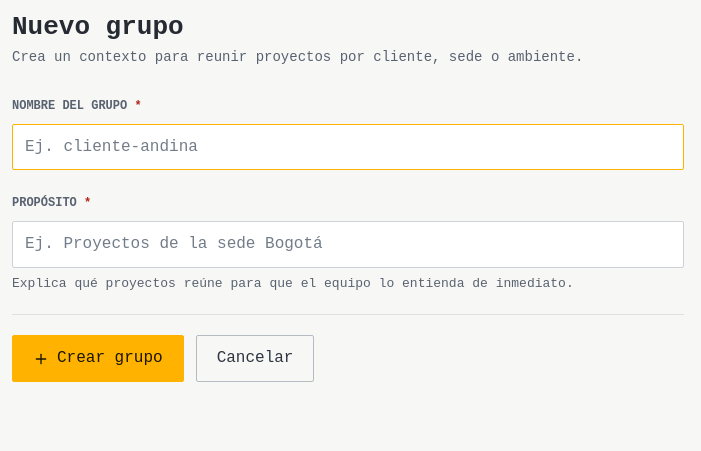
Test: Group forms › shows clear validation before creating a group
Click the button "Crear grupo": coordinates (98, 359) [12,335,184,382]
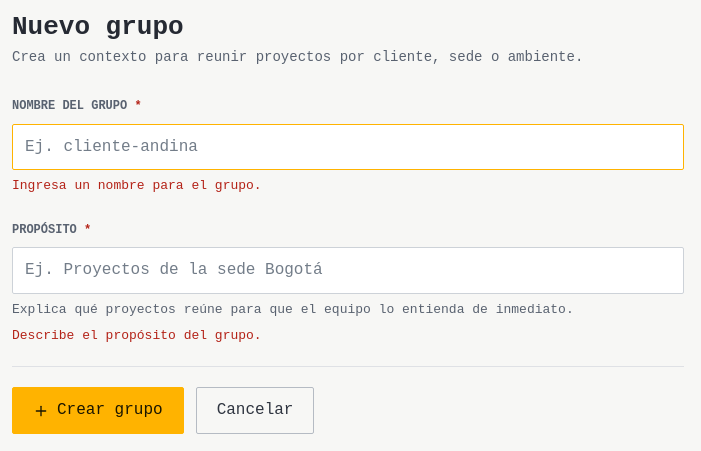
Expected: the text "Ingresa un nombre para el grupo." is shown, [12,178,262,194]
Expected: the text "Describe el propósito del grupo." is shown, [12,328,262,343]
